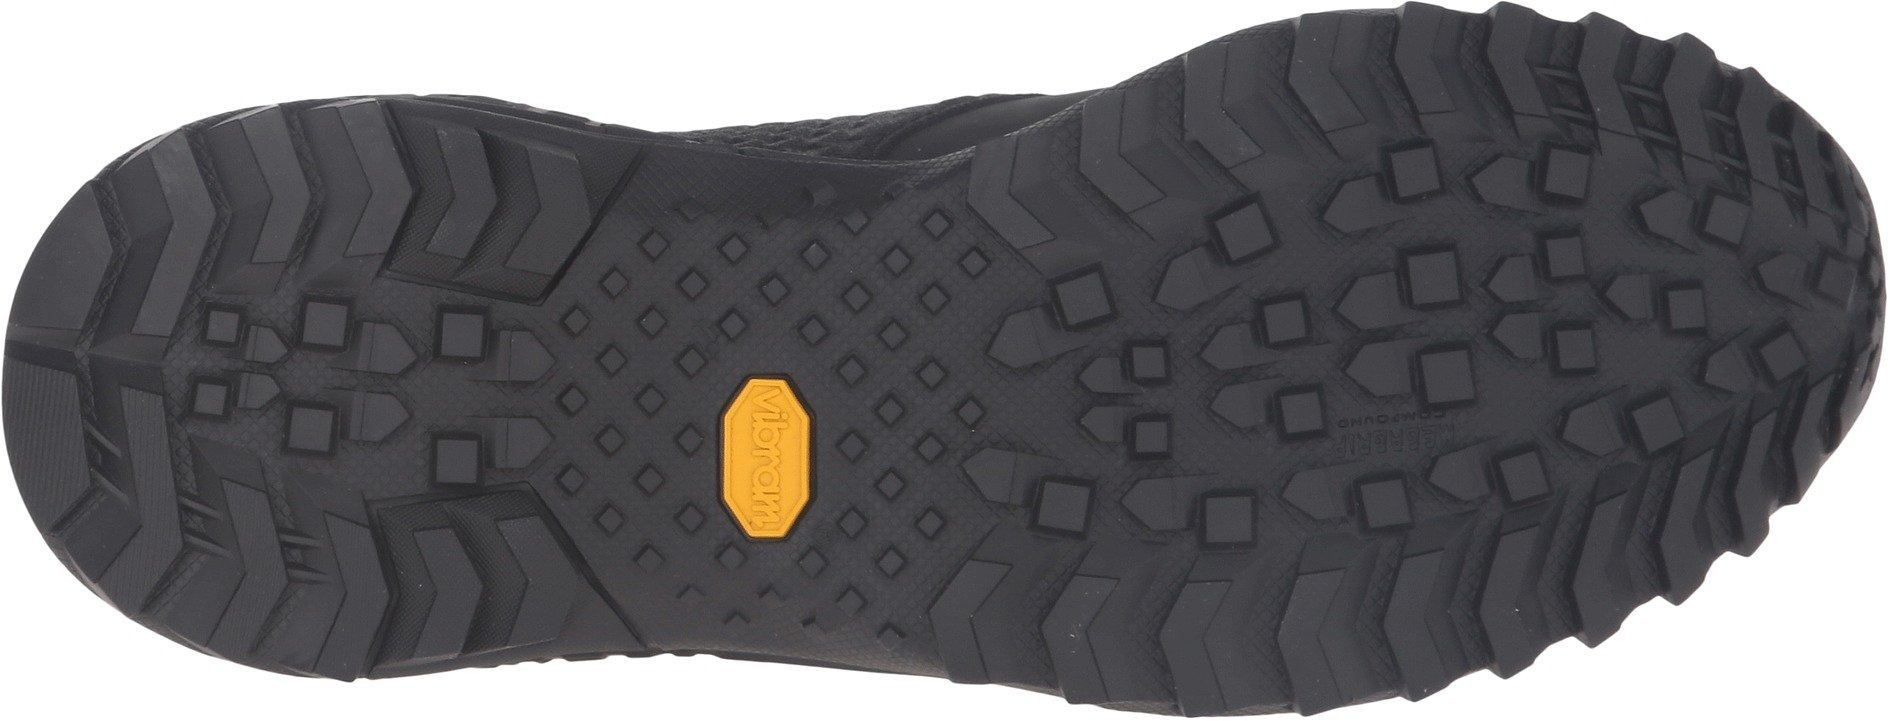chevron: (337, 74, 553, 269), (96, 408, 293, 608), (324, 493, 538, 670), (1332, 522, 1513, 685), (133, 121, 309, 260), (1055, 555, 1217, 703), (1395, 7, 1552, 153), (1581, 464, 1710, 599)
quad: (278, 283, 493, 492), (785, 207, 950, 379), (559, 374, 716, 541), (610, 209, 761, 360), (1372, 244, 1483, 410), (824, 385, 953, 522), (1229, 301, 1352, 436), (824, 529, 932, 638), (1103, 341, 1203, 457), (708, 545, 818, 647)
